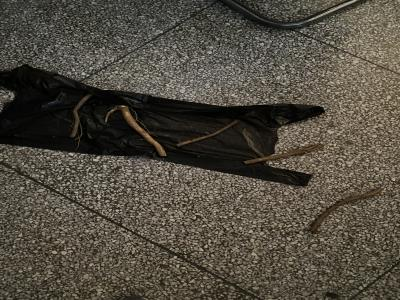Root: (104, 105, 167, 157), (310, 188, 382, 233), (244, 144, 324, 164), (177, 120, 237, 146), (70, 94, 92, 138)
